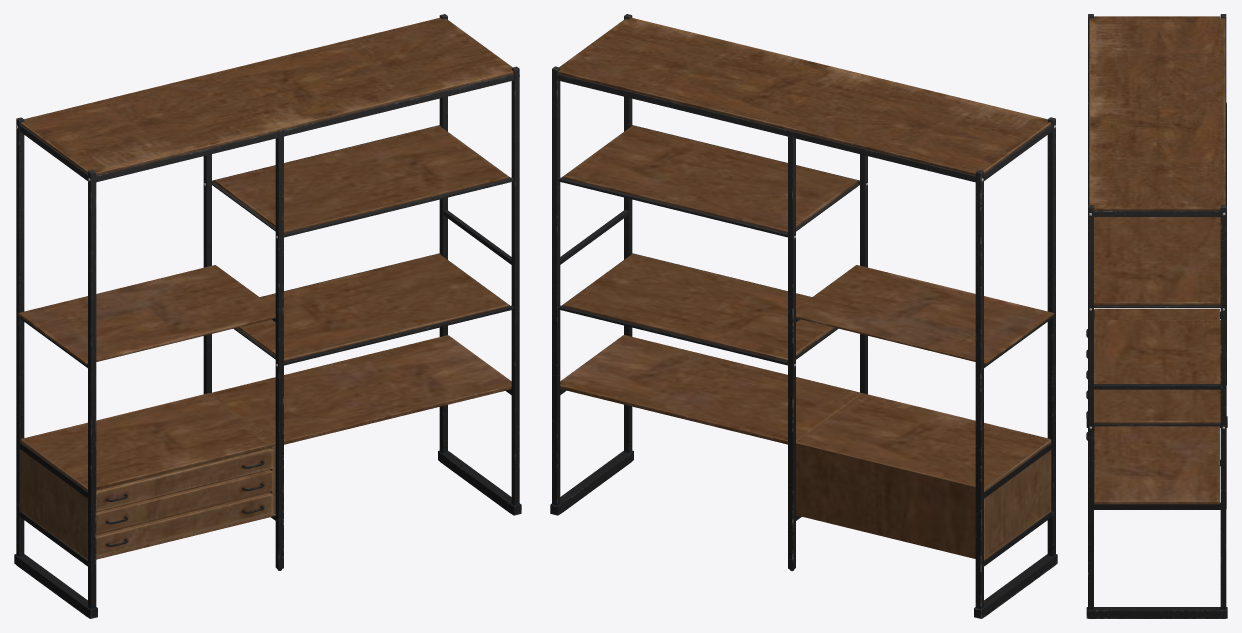
The model's file is steel_frame_shelves_03.glb.
3 views of the same model, side by side, from view 1: azimuth 30°, elevation 25°; view 2: azimuth 150°, elevation 25°; view 3: azimuth 270°, elevation 25° (orthographic). The views are drawn at different scales.
Parts seen in each view (by area): view 1: steel_frame_shelves_03, steel_frame_shelves_03_drawer_03, steel_frame_shelves_03_drawer_02, steel_frame_shelves_03_drawer_01; view 2: steel_frame_shelves_03; view 3: steel_frame_shelves_03.
Boxes of the visible parts, x1,y1,x2,y2 form: steel_frame_shelves_03: [14, 14, 521, 618]; steel_frame_shelves_03_drawer_03: [96, 492, 272, 556]; steel_frame_shelves_03_drawer_02: [96, 470, 272, 533]; steel_frame_shelves_03_drawer_01: [96, 448, 272, 511]; steel_frame_shelves_03: [550, 14, 1057, 618]; steel_frame_shelves_03: [1086, 14, 1227, 618].
Bounding box in the file's own units: 2.35 × 2.31 × 0.7212.
2 materials, 2 textured.
